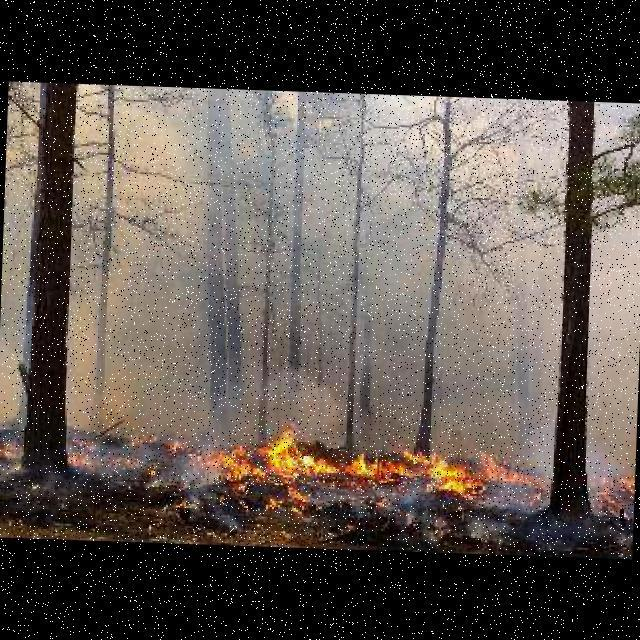Fire: (213, 423, 473, 486), (67, 450, 164, 479), (124, 421, 201, 454), (261, 486, 314, 518), (0, 430, 22, 479), (222, 475, 253, 498)
Smoke: (65, 82, 566, 435), (311, 480, 631, 551), (185, 490, 248, 530), (158, 453, 217, 491)
